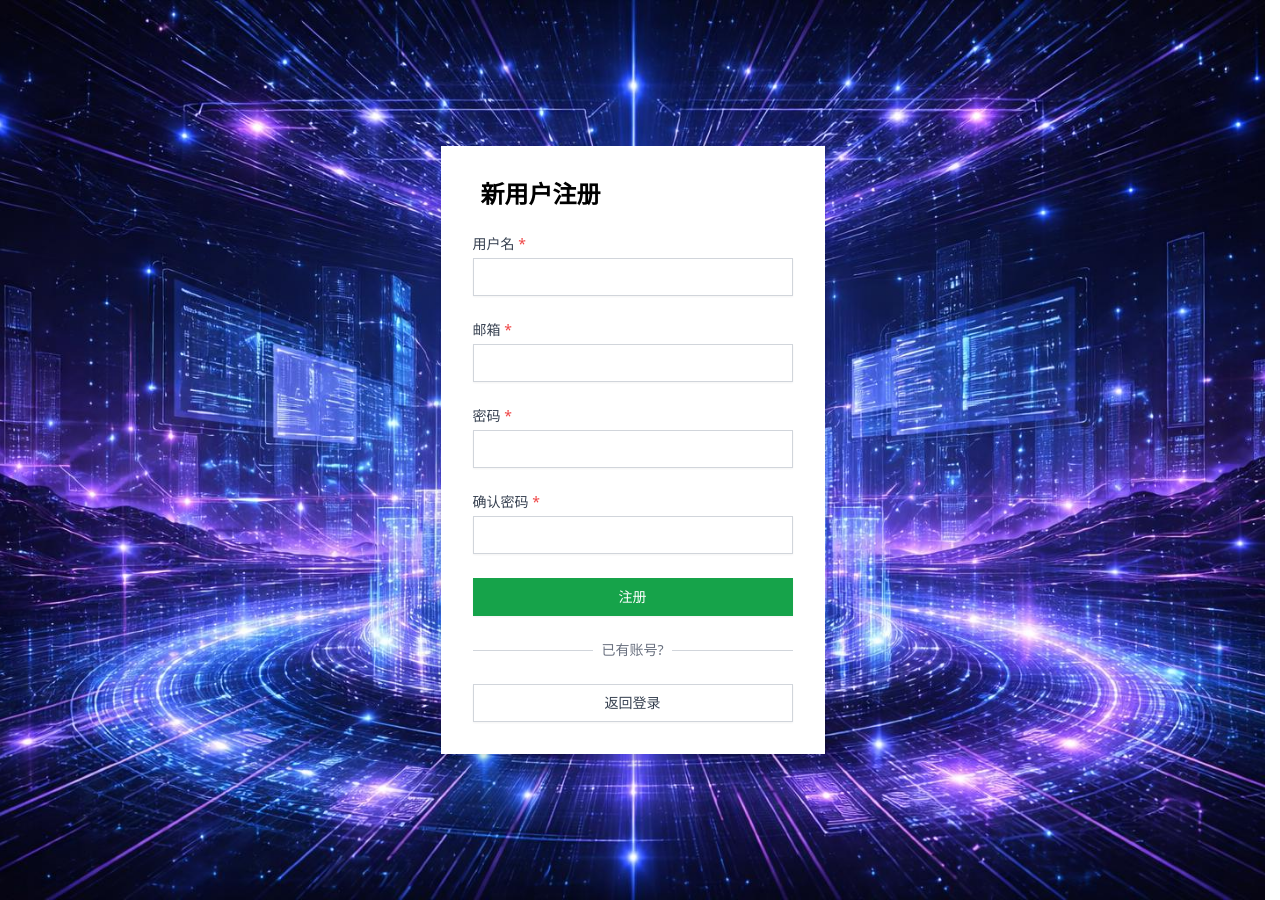
it: Register (branch coverage) › handles verify step: requires code and shows error on verify failure
Type "testuser" into the field labelled "用户名 *" at (632, 277), box [472, 258, 792, 296]
Type "test@example.com" into the field labelled "邮箱 *" at (632, 363), box [472, 344, 792, 382]
Type "123456" into the password field labelled "密码 *" at (632, 449), box [472, 430, 792, 468]
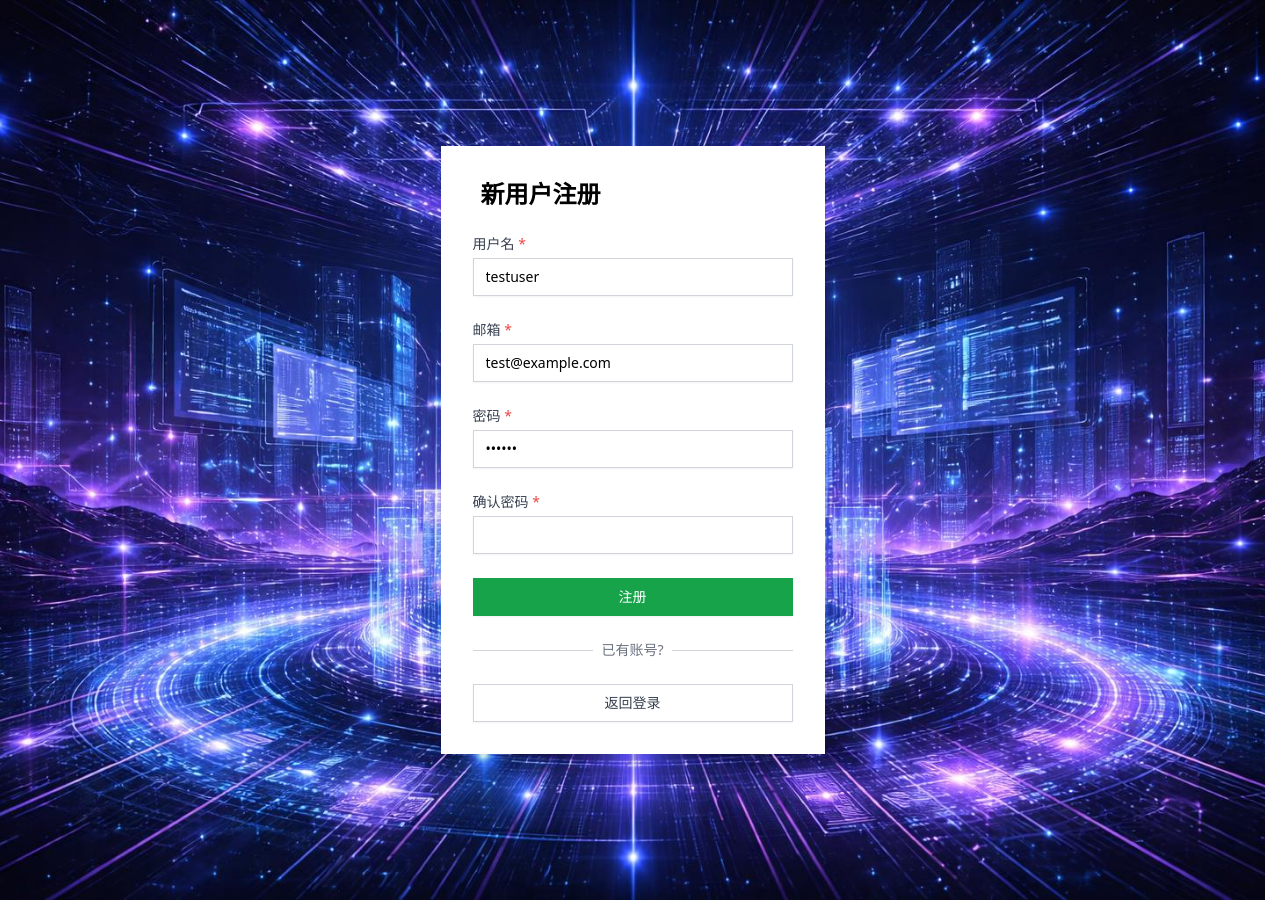
Type "123456" into the password field labelled "确认密码 *" at (632, 535), box [472, 516, 792, 554]
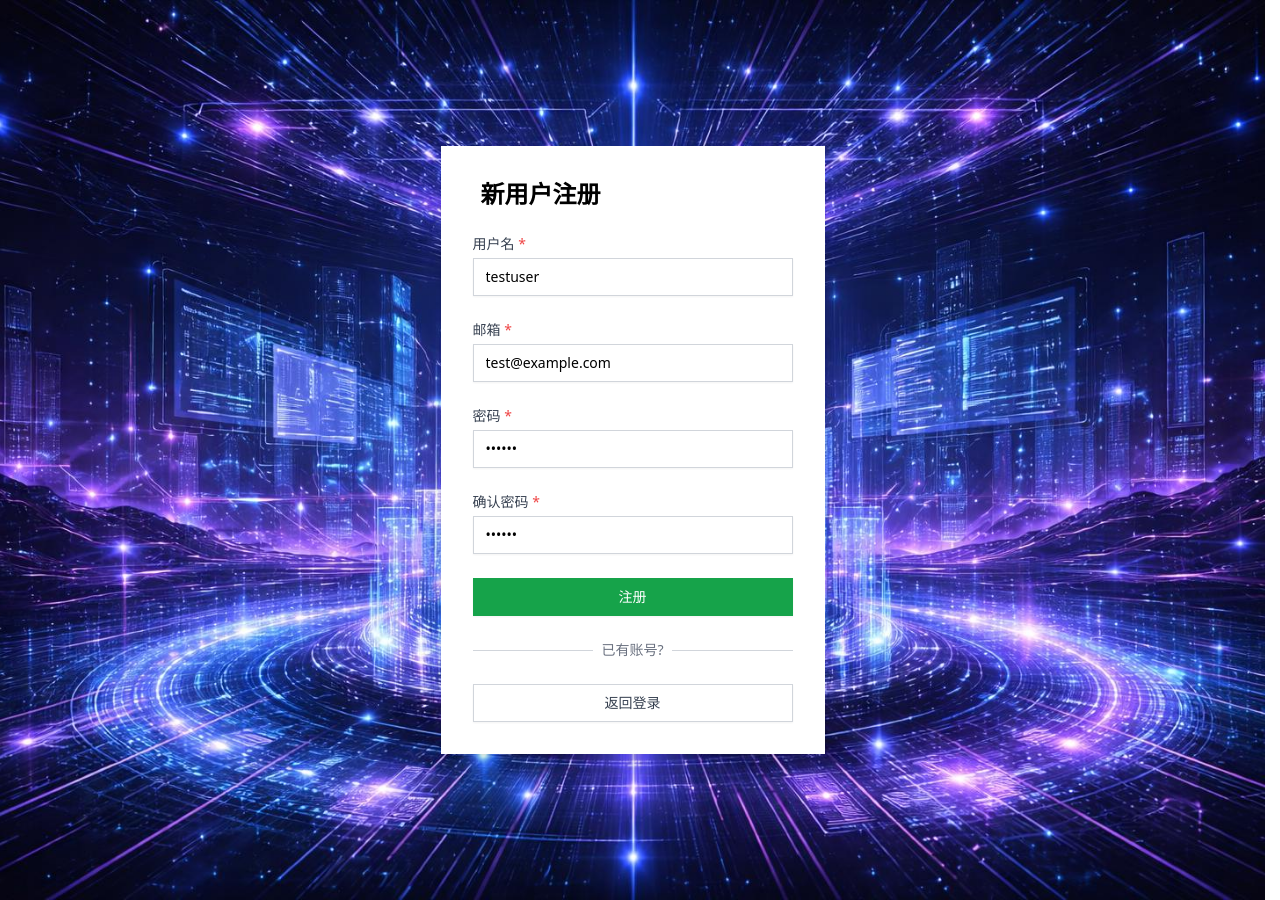
Click the button "注册" at (632, 597), box [472, 578, 792, 616]
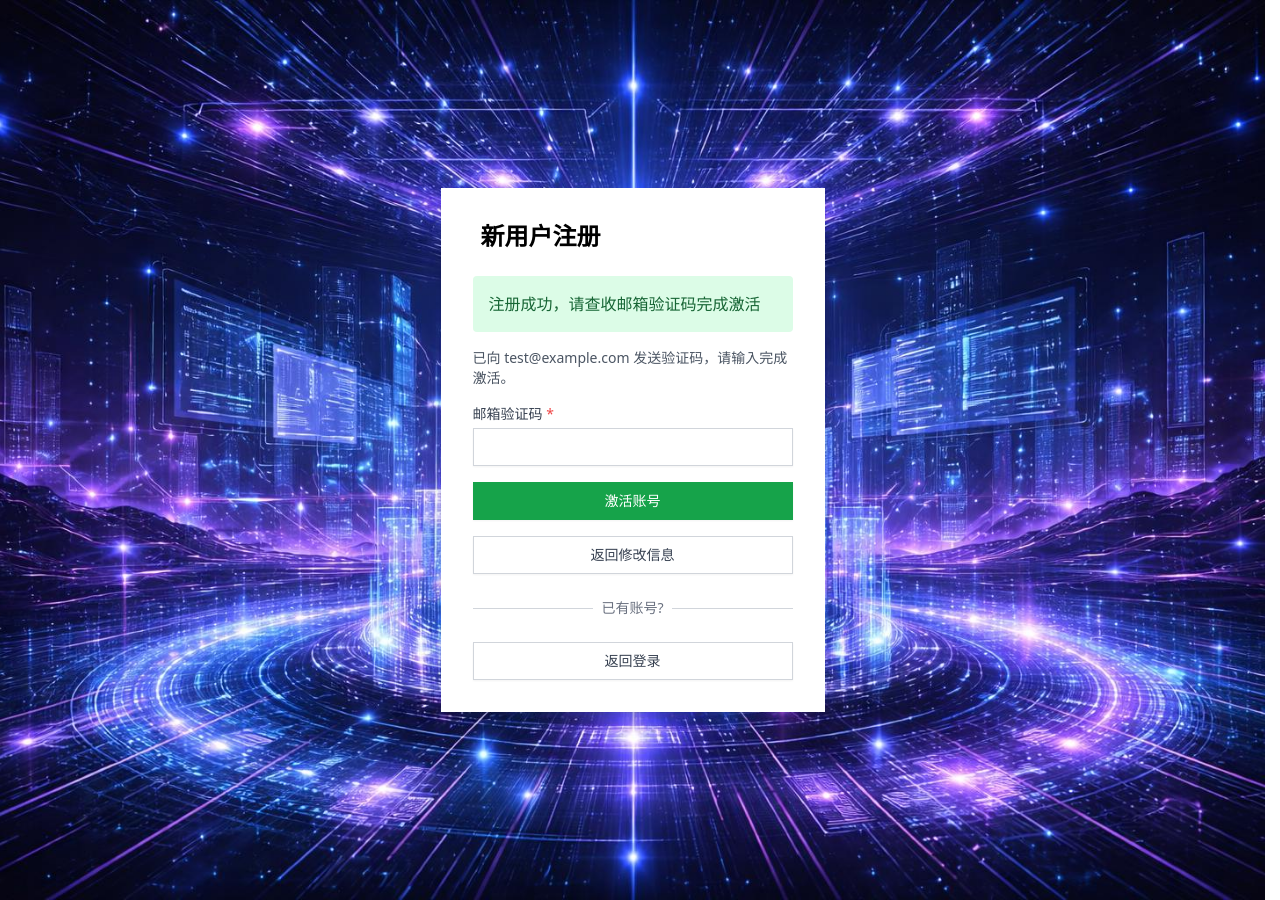
Now the text "注册成功，请查收邮箱验证码完成激活" is shown, box [488, 292, 776, 316]
Submit the form "激活账号", box [472, 348, 792, 574]
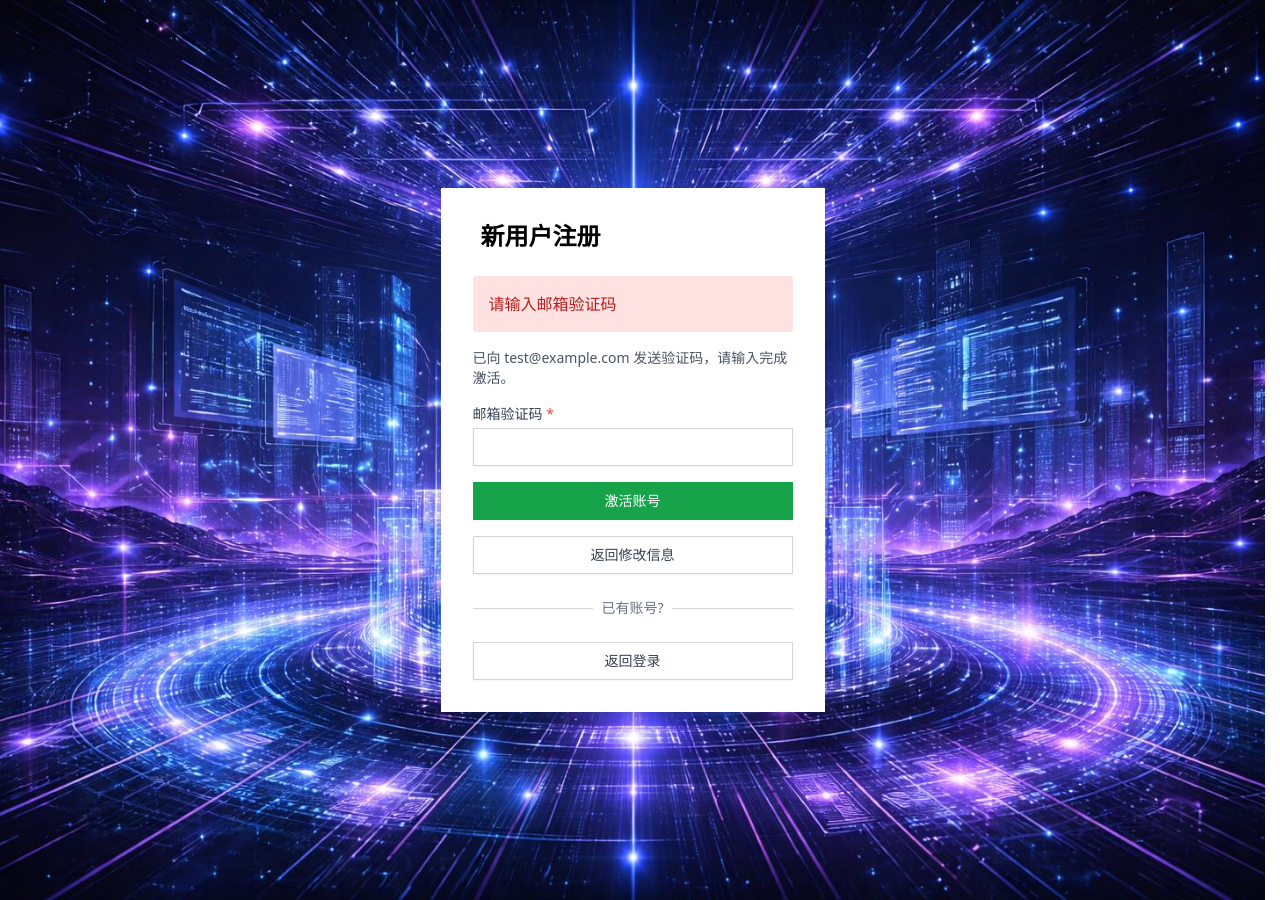
Now the text "请输入邮箱验证码" is shown, box [488, 293, 616, 315]
Type "000000" into the field labelled "邮箱验证码 *" at (632, 447), box [472, 428, 792, 466]
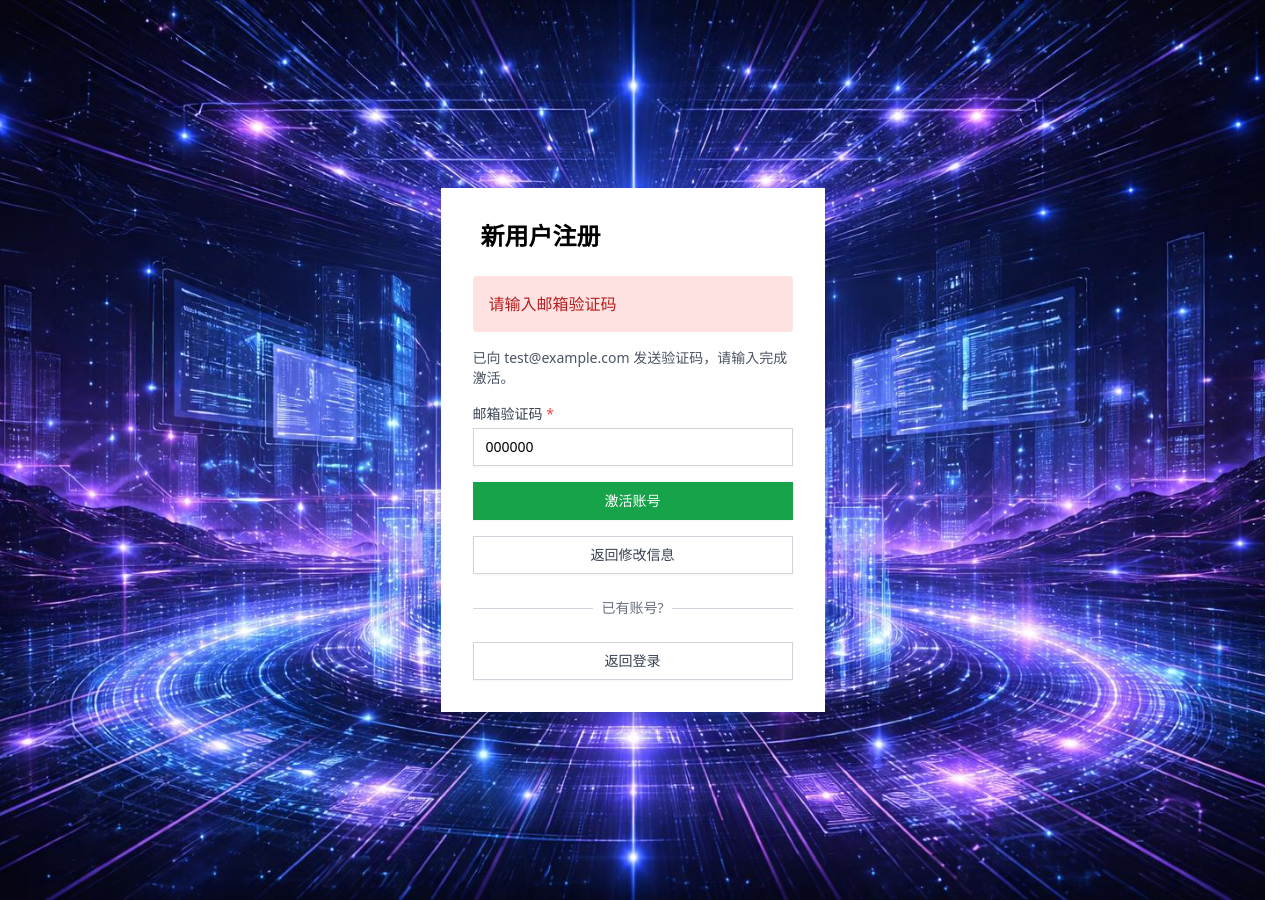
Click the button "激活账号" at (632, 501), box [472, 482, 792, 520]
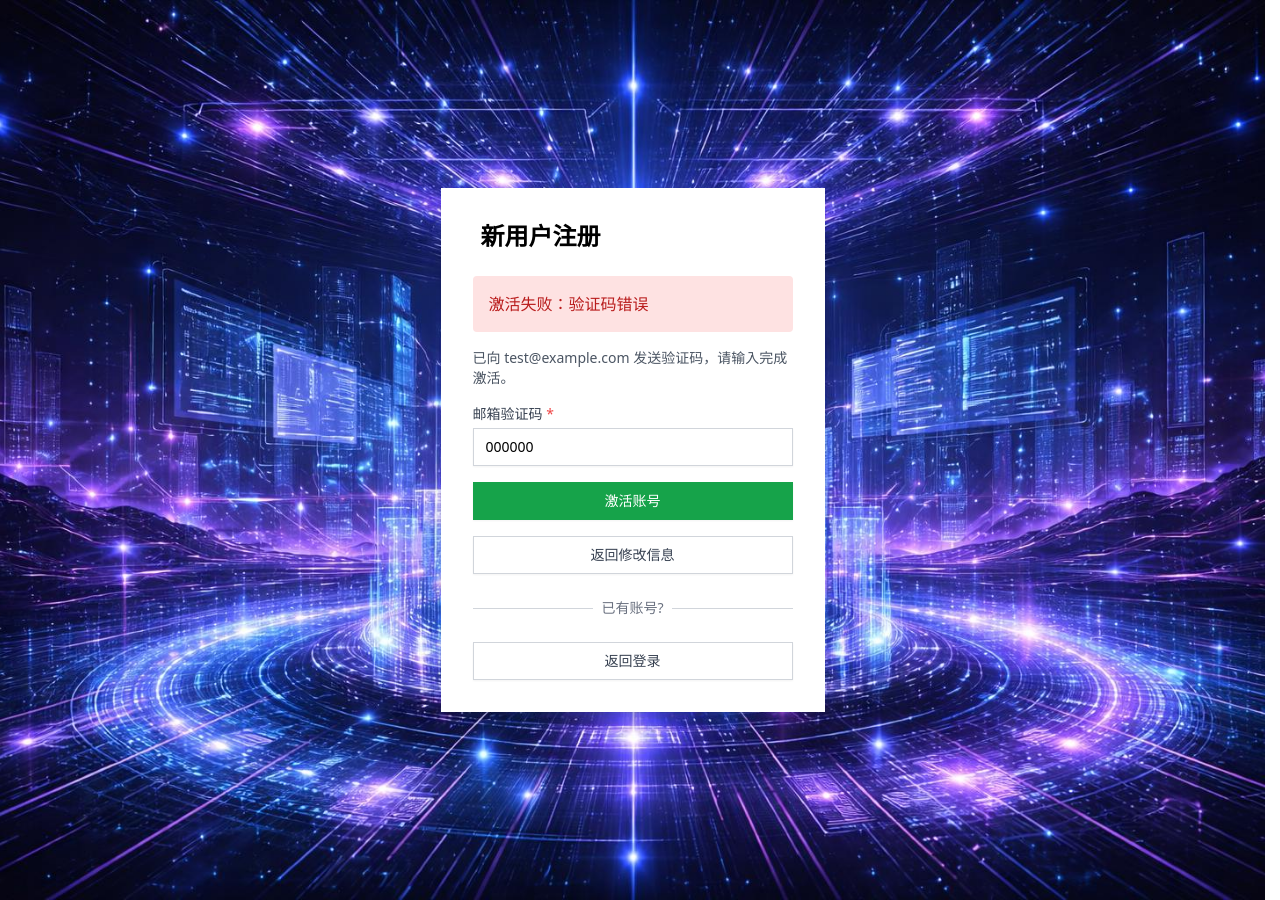
Now the text "激活失败：验证码错误" is shown, box [488, 293, 648, 315]
